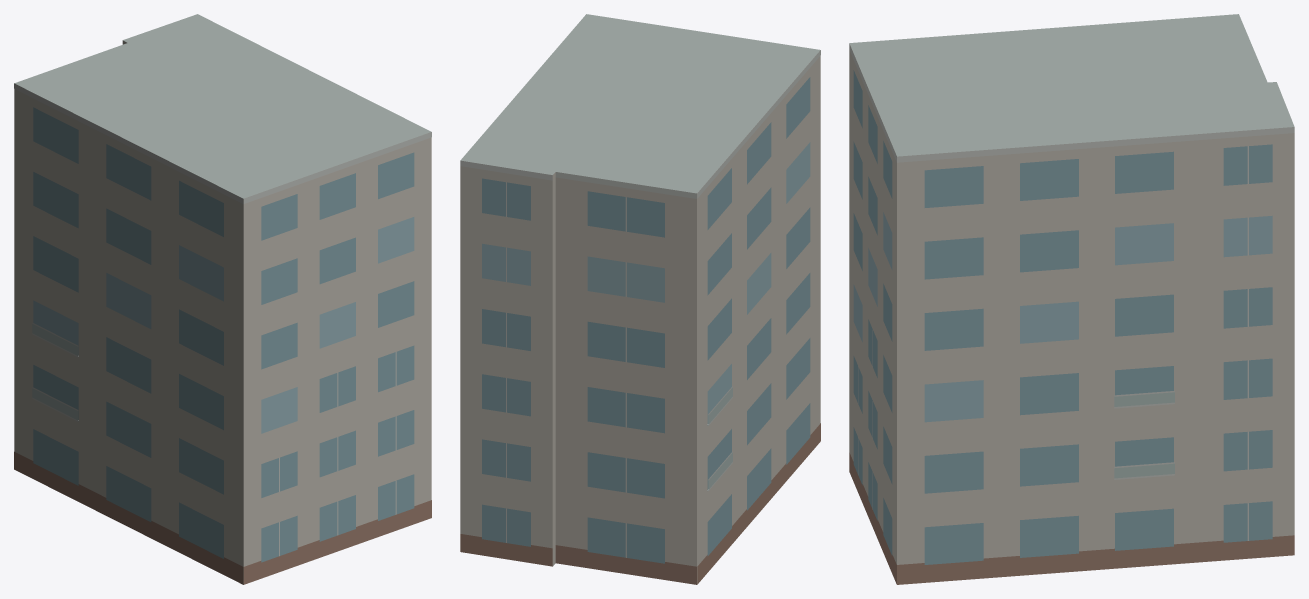
The model's file is survey-upis-32960022.glb.
3 views of the same model, side by side, from view 1: azimuth 30°, elevation 25°; view 2: azimuth 150°, elevation 25°; view 3: azimuth 270°, elevation 25° (orthographic). The views are drawn at different scales.
Parts seen in each view (by area): view 1: survey-upis-32960022.tmp; view 2: survey-upis-32960022.tmp; view 3: survey-upis-32960022.tmp.
Boxes of the visible parts, <box> form: survey-upis-32960022.tmp: <box>14,14,431,584</box>; survey-upis-32960022.tmp: <box>460,14,820,584</box>; survey-upis-32960022.tmp: <box>849,14,1294,584</box>.
Bounding box in the file's own units: 12.29 × 17.2 × 16.22.
